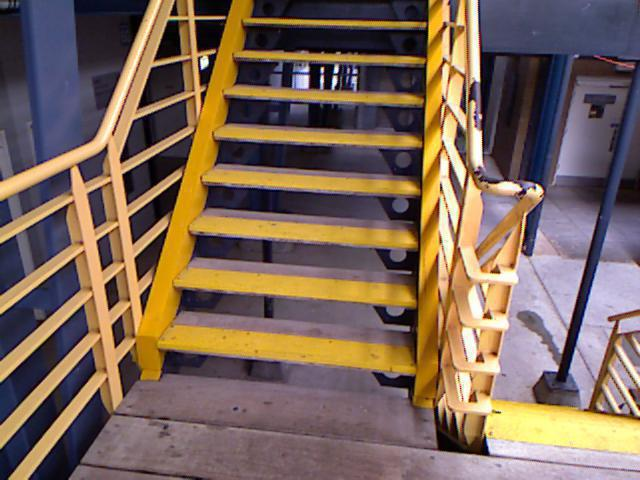Escaleras: (156, 39, 470, 435), (455, 361, 637, 445)
